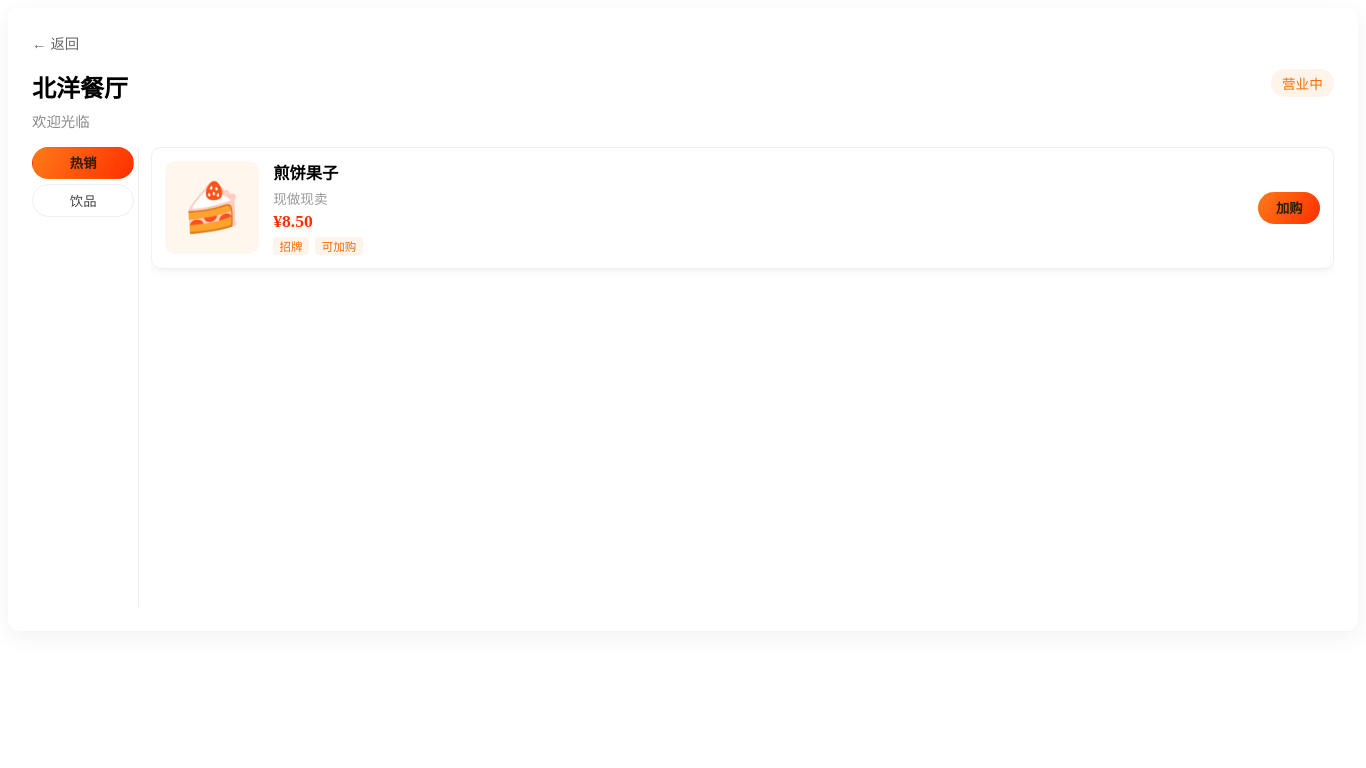
it: 店铺页（顾客点单） › 点击其他分类切换展示对应商品
The width and height of the screenshot is (1366, 768).
Step 1. Click the button with test id "category-31" → [83, 200], box [32, 184, 134, 217]
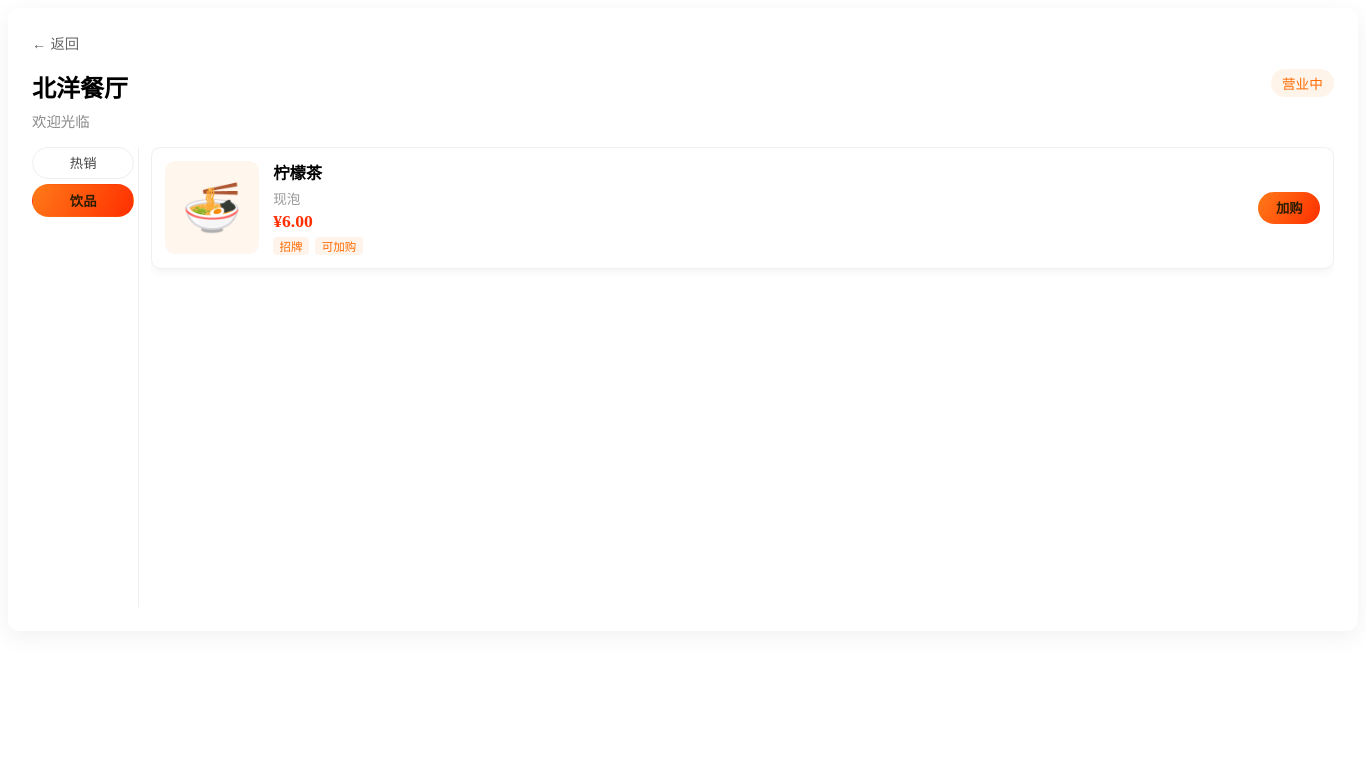
Expected: the list item with test id "product-card-44" shows "柠檬茶", [273, 164, 322, 183]
Expected: the text "煎饼果子" is gone
